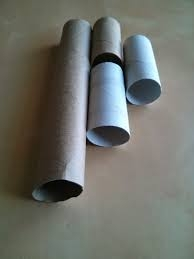paper: (25, 11, 101, 214), (84, 59, 138, 154), (121, 30, 165, 109), (88, 12, 128, 66)
